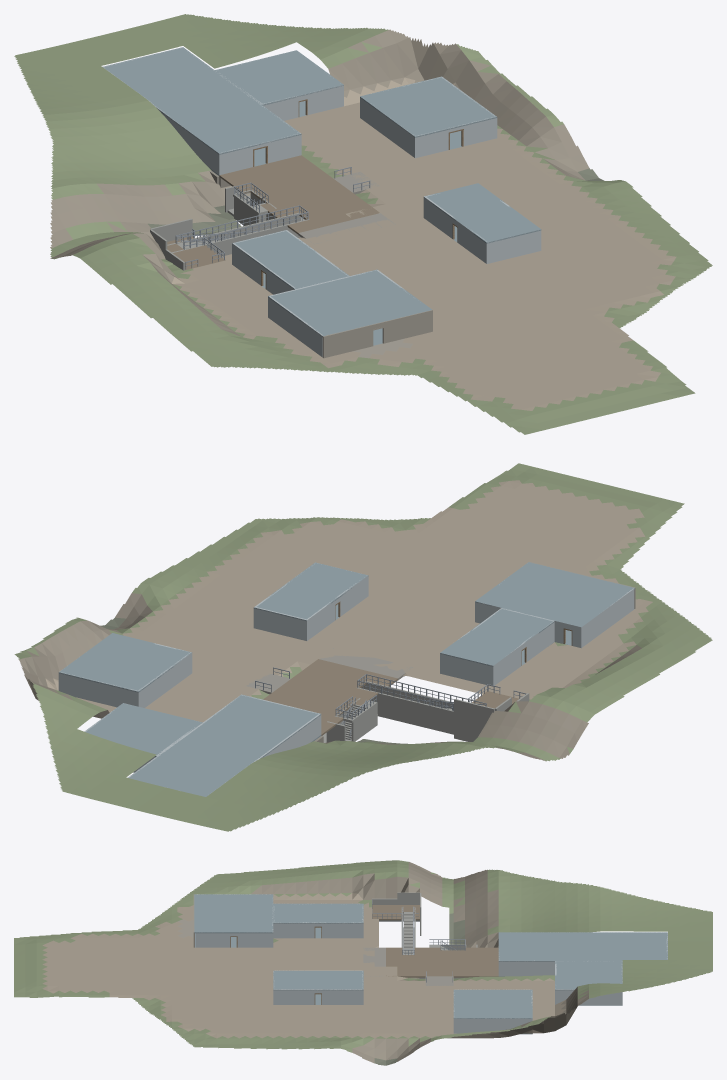
Rendered from workyard-station.glb.
3 views of the same model, one above another, from view 1: azimuth 30°, elevation 25°; view 2: azimuth 150°, elevation 25°; view 3: azimuth 270°, elevation 25° (orthographic). The views are drawn at different scales.
Parts seen in each view (by area): view 1: WLD-12 saved ground, Ceiling cap tunnel, WLD-12 trestle deck with rectangular access region0, Ceiling cap signal, Ceiling cap store, Ceiling cap refuge, Ceiling cap coach-b, Ceiling cap coach-a, WLD-12 clean signal W end, WLD-12 clean coach-b S end, WLD-12 clean store W end, Gallows Pass Railway signal exterior facade signal s exterio (+12 smaller); view 2: WLD-12 saved ground, Ceiling cap tunnel, Ceiling cap signal, WLD-12 trestle deck with rectangular access region0, Ceiling cap store, Ceiling cap refuge, Ceiling cap coach-b, Ceiling cap coach-a, WLD-12 west stair retaining wall 36.75 region0, WLD-12 clean store N end, WLD-12 platform north retaining parapet region0, WLD-12 clean coach-b N end (+10 smaller); view 3: WLD-12 saved ground, Ceiling cap tunnel, Ceiling cap signal, WLD-12 trestle deck with rectangular access region0, Ceiling cap store, Ceiling cap coach-a, Ceiling cap coach-b, Ceiling cap refuge, WLD-12 clean store E end, WLD-12 clean tunnel E end, WLD-12 clean coach-a E end, WLD-12 clean coach-b E end (+6 smaller).
Boxes of the visible parts, x1,y1,x2,y2 form: WLD-12 saved ground: (14,14,712,434); Ceiling cap tunnel: (102,47,301,154); WLD-12 trestle deck with rectangular access region0: (219,155,379,234); Ceiling cap signal: (268,269,432,336); Ceiling cap store: (360,76,497,137); Ceiling cap refuge: (215,50,343,105); Ceiling cap coach-b: (423,183,541,243); Ceiling cap coach-a: (232,230,349,289); WLD-12 clean signal W end: (269,296,322,357); WLD-12 clean coach-b S end: (485,230,541,263); WLD-12 clean store W end: (360,97,415,157); Gallows Pass Railway signal exterior facade signal s exterio: (322,325,371,358); WLD-12 saved ground: (14,463,712,831); Ceiling cap tunnel: (129,694,320,796); Ceiling cap signal: (475,562,635,627); WLD-12 trestle deck with rectangular access region0: (263,659,397,735); Ceiling cap store: (59,633,192,692); Ceiling cap refuge: (86,703,202,756); Ceiling cap coach-b: (253,562,368,620); Ceiling cap coach-a: (440,608,554,666); WLD-12 west stair retaining wall 36.75 region0: (357,687,453,734); WLD-12 clean store N end: (58,671,139,707); WLD-12 platform north retaining parapet region0: (454,699,494,741); WLD-12 clean coach-b N end: (253,607,307,640); WLD-12 saved ground: (14,860,712,1065); Ceiling cap tunnel: (498,932,667,961); Ceiling cap signal: (194,894,273,933); WLD-12 trestle deck with rectangular access region0: (386,947,498,977); Ceiling cap store: (453,989,532,1018); Ceiling cap coach-a: (273,903,363,923); Ceiling cap coach-b: (273,970,363,990); Ceiling cap refuge: (555,961,622,990); WLD-12 clean store E end: (455,1018,531,1033); WLD-12 clean tunnel E end: (500,960,554,976); WLD-12 clean coach-a E end: (274,922,314,938); WLD-12 clean coach-b E end: (274,989,314,1004).
Bounding box in the file's own units: 75 × 10.08 × 124.
Materials: 29 (16 with a texture image).
